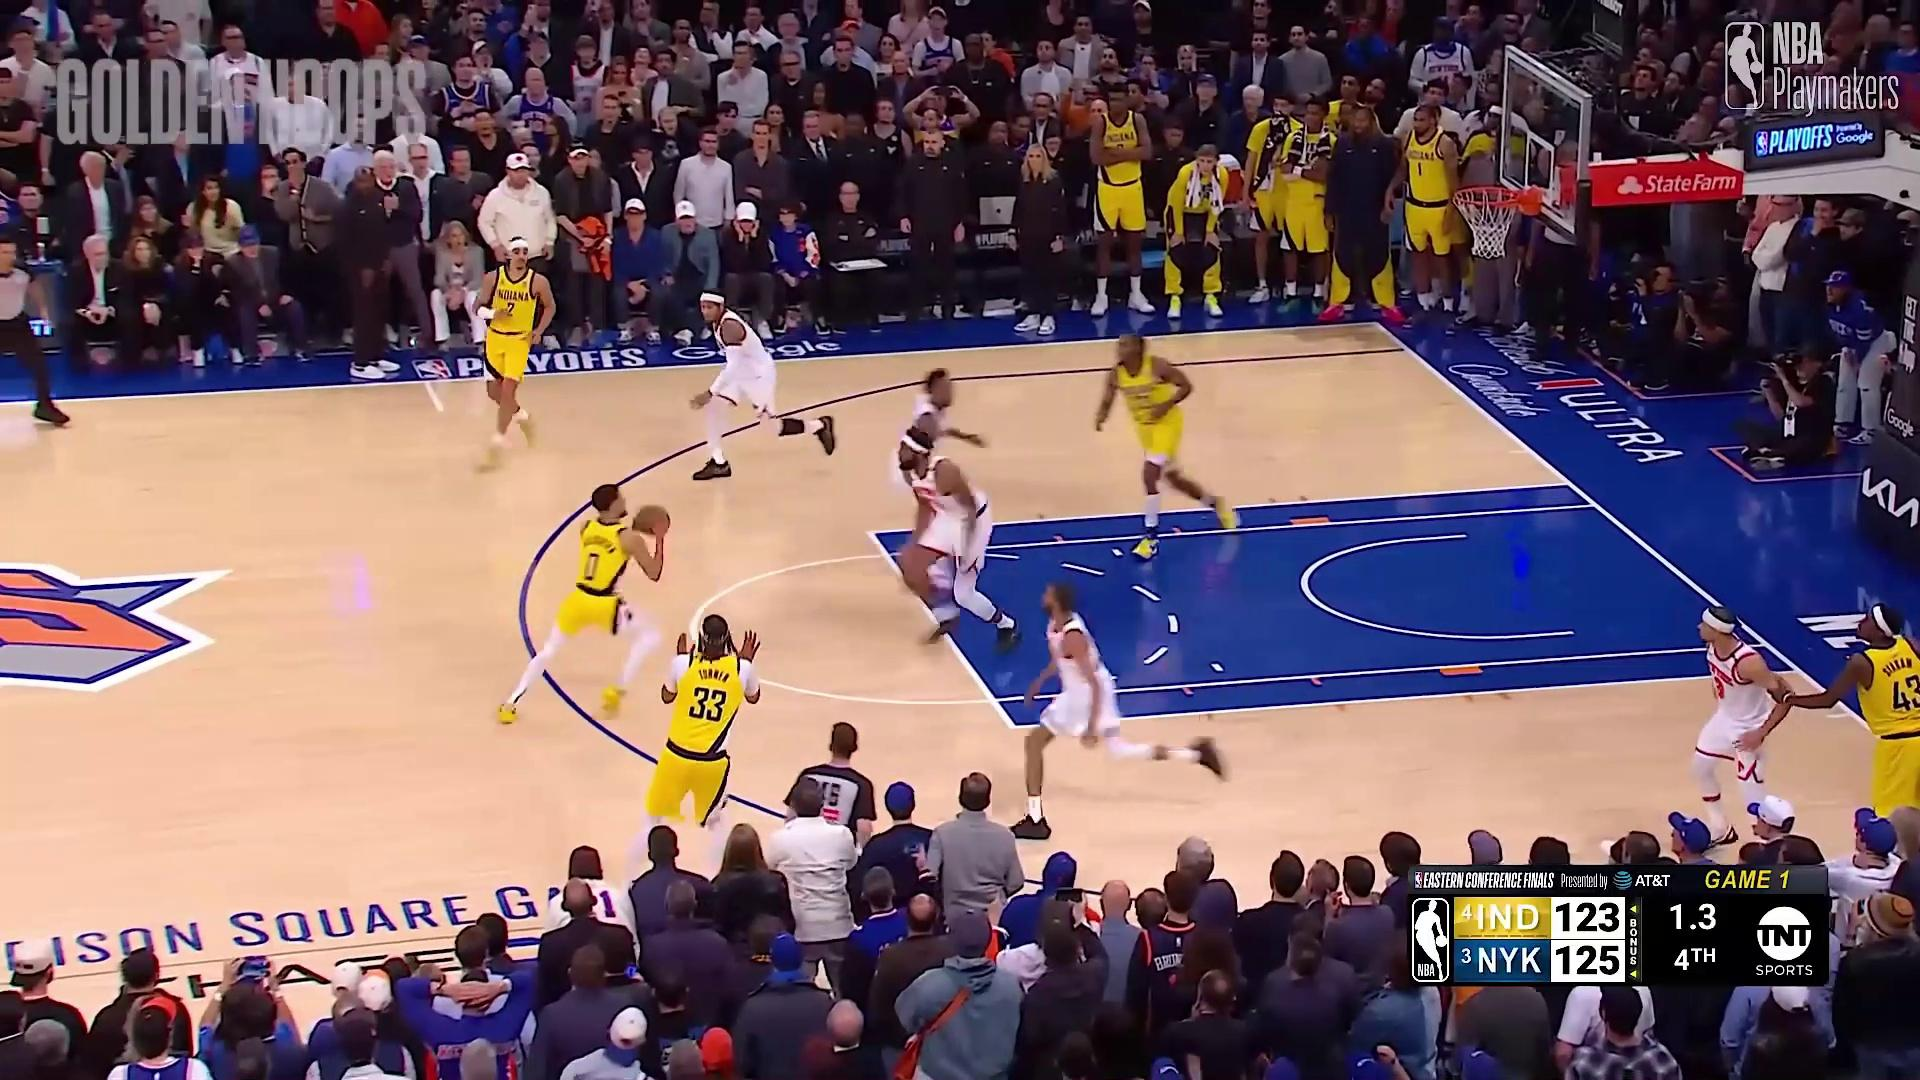ball: (638, 505, 669, 534)
hoop: (1449, 169, 1527, 264)
